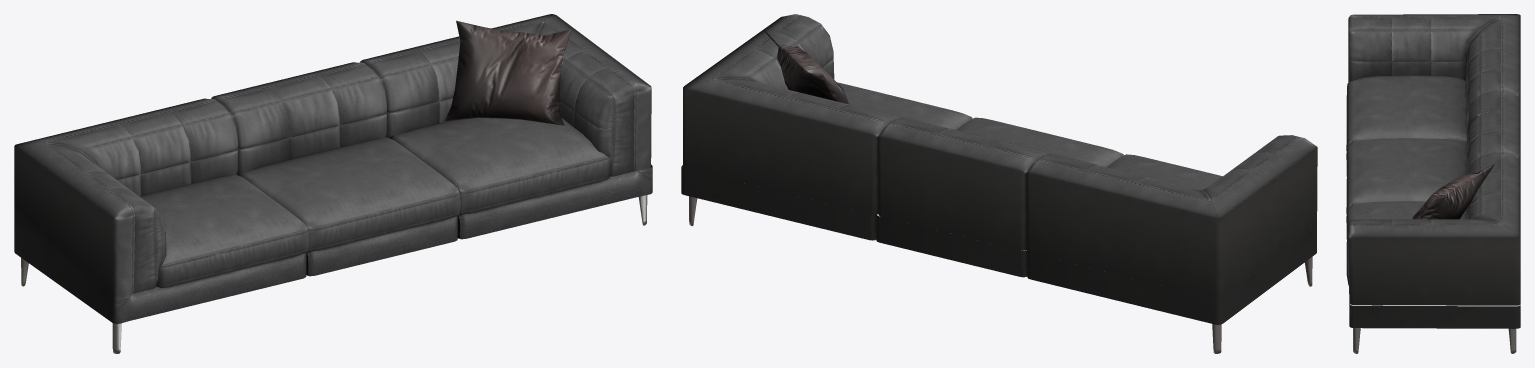
The model's file is Three_Seater_Sofa_02.fbx.
3 renders of one model, left to right at view 1: azimuth 30°, elevation 25°; view 2: azimuth 150°, elevation 25°; view 3: azimuth 270°, elevation 25°, orthographic. The views are drawn at different scales.
Visible parts, largest first — view 1: Sofa.003; view 2: Sofa.003; view 3: Sofa.003.
Boxes of the visible parts, x1,y1,x2,y2 form: Sofa.003: (14,14,652,353); Sofa.003: (681,14,1317,353); Sofa.003: (1346,14,1520,353).
Bounding box in the file's own units: 307 × 92 × 101.
2 materials, 2 textured.
